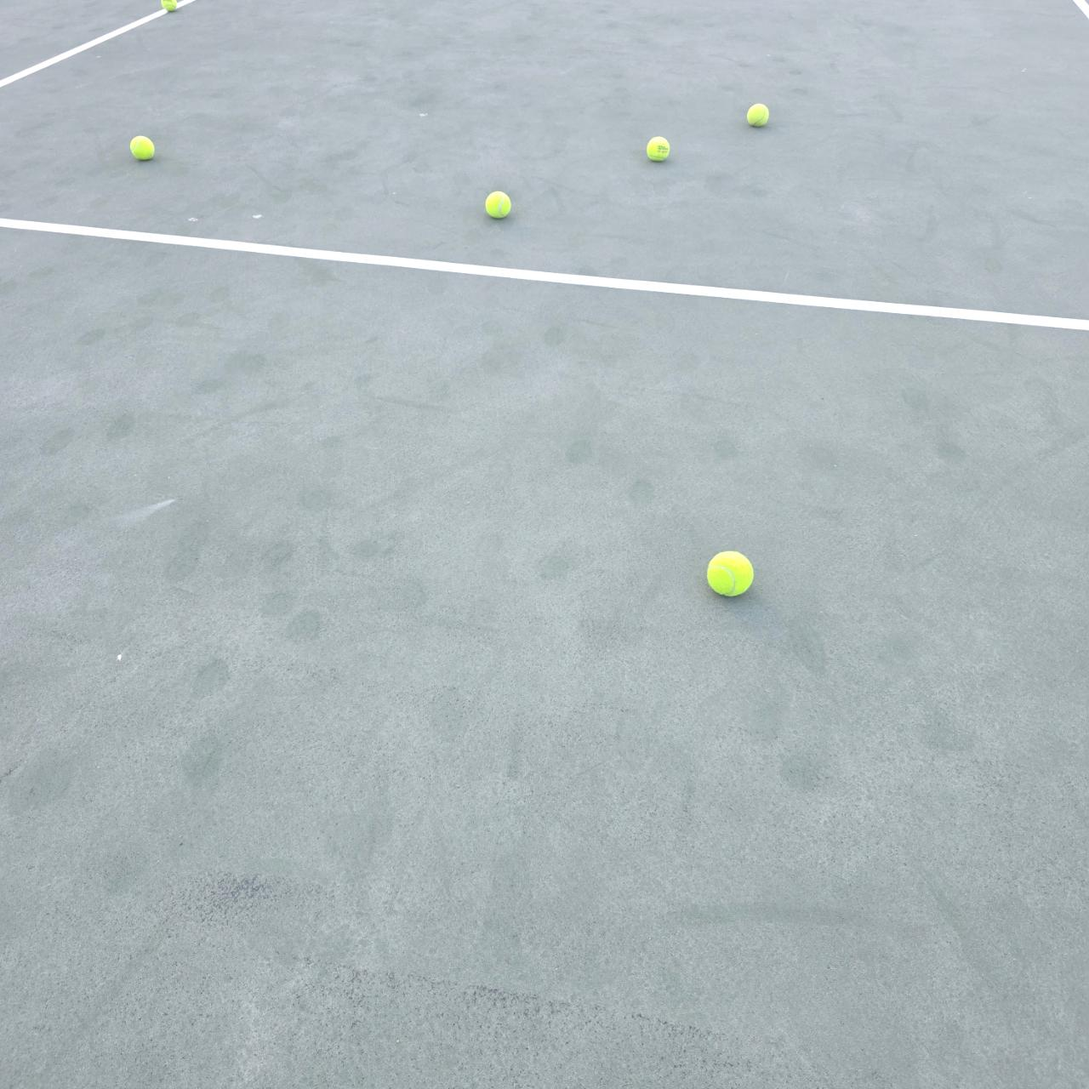tennis-ball: (704, 547, 755, 597), (483, 188, 511, 219), (128, 133, 156, 161), (645, 134, 670, 162), (745, 100, 769, 127), (161, 0, 177, 12)
